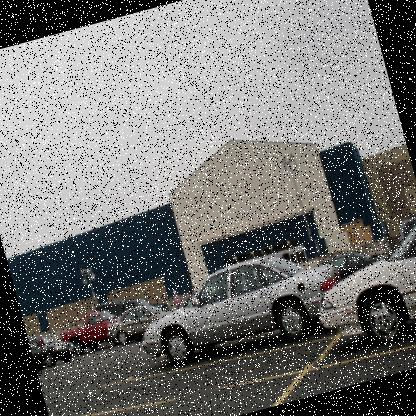Car: (22, 210, 415, 415)
